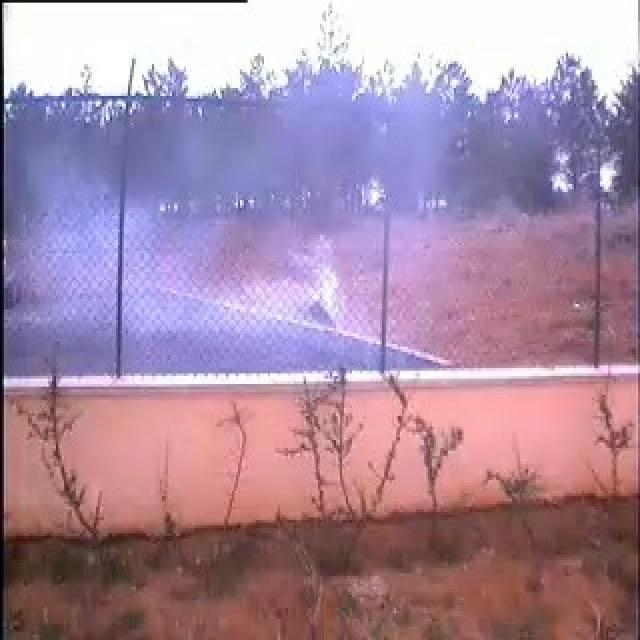smoke: (119, 106, 390, 374)
